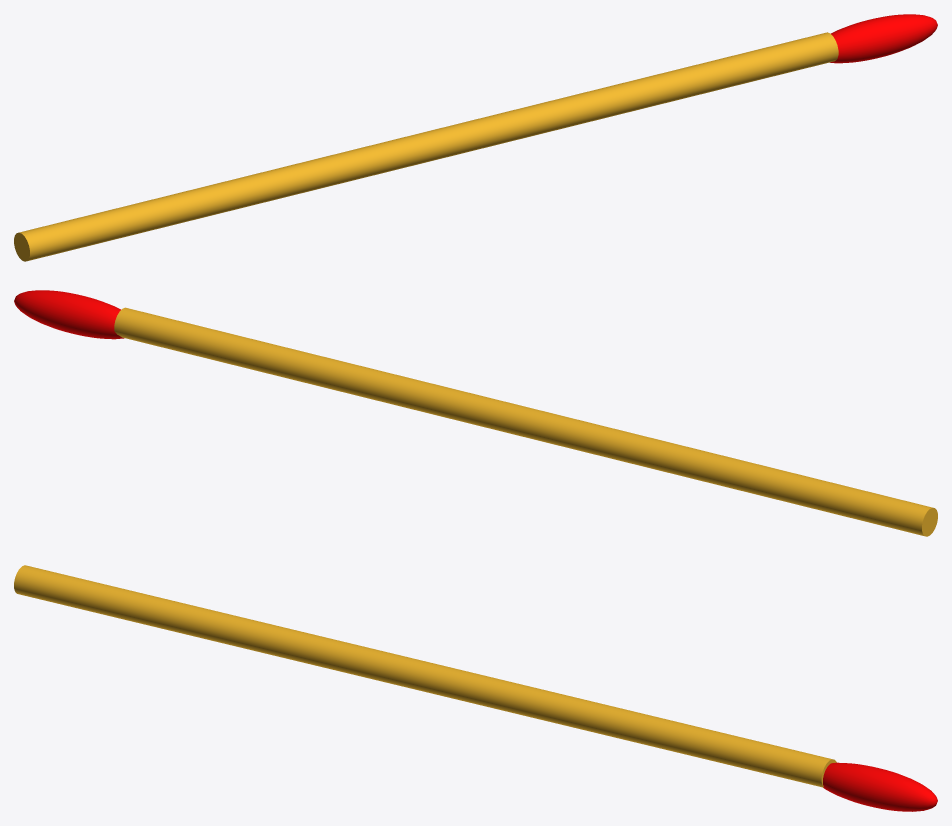
The model's file is omatchstick.FBX.
The picture shows the model from 3 angles, top to bottom: view 1: azimuth 30°, elevation 25°; view 2: azimuth 150°, elevation 25°; view 3: azimuth 330°, elevation 25°; orthographic projection.
Visible parts, largest first — view 1: Cylinder001, Sphere001; view 2: Cylinder001, Sphere001; view 3: Cylinder001, Sphere001.
Part boxes in pixels (bbox=[...]): Cylinder001: bbox=[14, 32, 838, 261]; Sphere001: bbox=[830, 14, 937, 63]; Cylinder001: bbox=[114, 307, 937, 536]; Sphere001: bbox=[14, 290, 124, 339]; Cylinder001: bbox=[14, 565, 836, 787]; Sphere001: bbox=[823, 762, 937, 811].
Bounding box in the file's own units: 13.8 × 0.5407 × 0.5089.
Materials: 2 (2 with a texture image).
